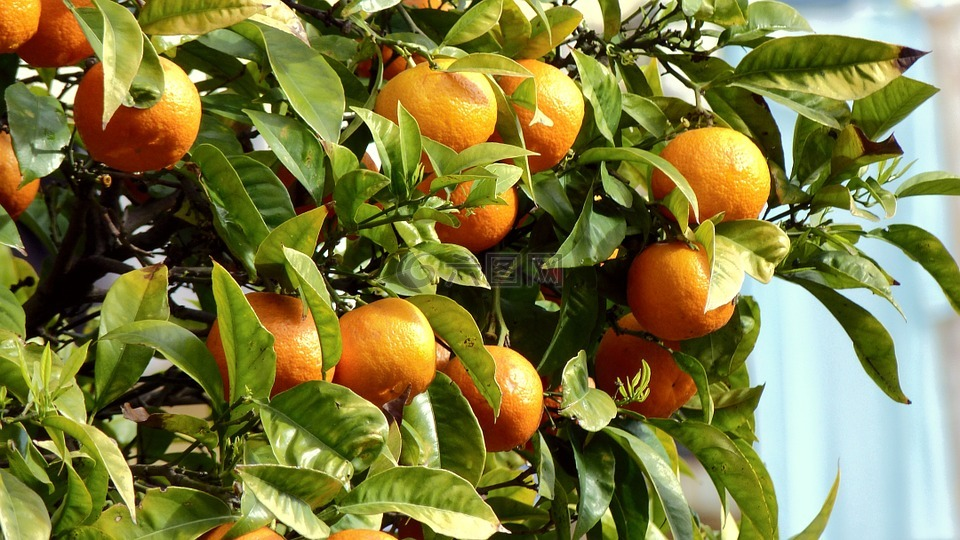orange: (74, 56, 203, 171), (205, 289, 336, 402), (372, 57, 497, 161), (594, 305, 704, 420), (652, 125, 771, 231), (323, 294, 435, 406), (475, 58, 583, 168), (433, 342, 541, 450), (402, 146, 514, 248), (630, 239, 740, 337), (20, 1, 117, 68), (1, 129, 45, 216), (1, 1, 47, 51)
